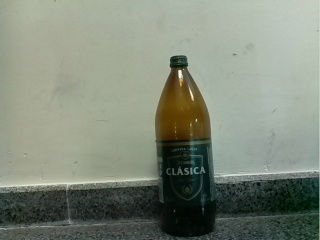pote cristal: (154, 55, 216, 234)
